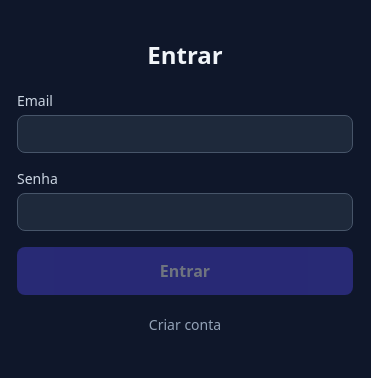
Test: Login › shows a friendly message on invalid credentials
This screenshot has width=371, height=378.
Type "joao@example.com" into the field labelled "Email".
click(185, 134); type("joao@example.com")  # box x1=17 y1=115 x2=353 y2=153
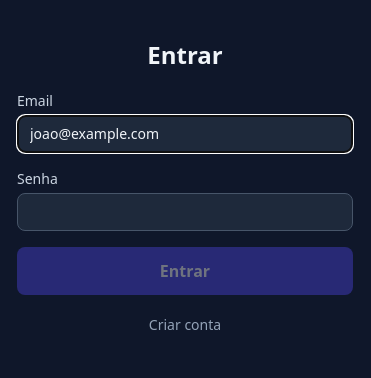
Type "wrong" into the password field labelled "Senha".
click(185, 212); type("wrong")  # box x1=17 y1=193 x2=353 y2=231
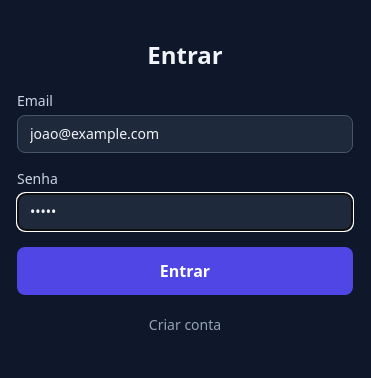
Click the button "Entrar".
click(185, 271)  # box x1=17 y1=247 x2=353 y2=295
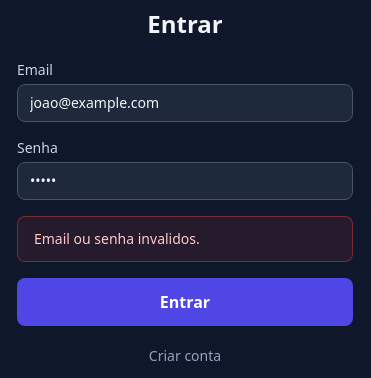
Result: the text "Email ou senha invalidos." is shown at x1=34 y1=229 x2=200 y2=248
